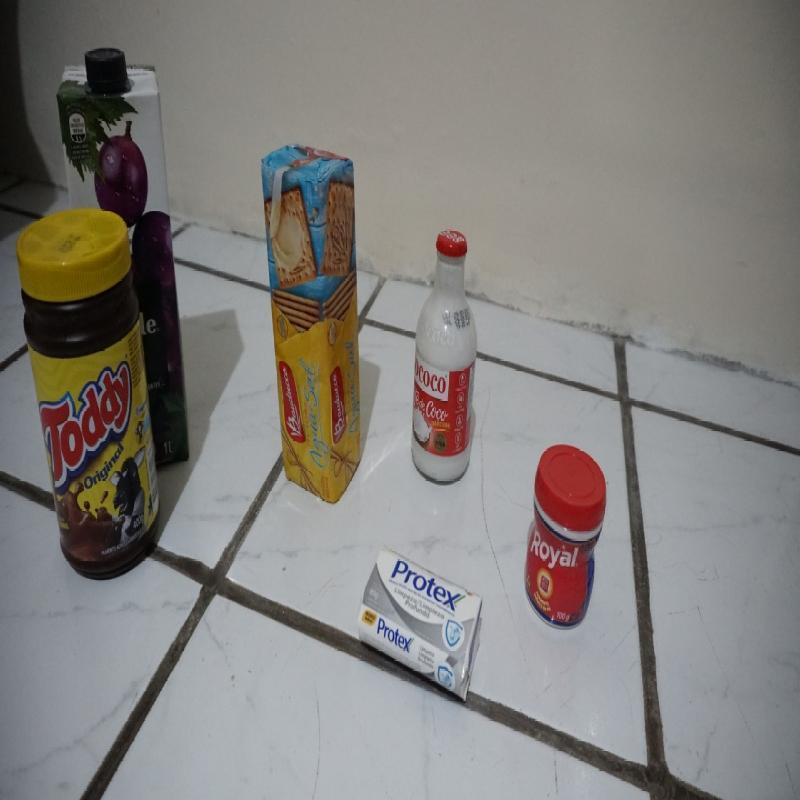Chocolate Powder: (16, 207, 163, 582)
Coconut Milk: (410, 228, 479, 486)
Cracker: (261, 143, 364, 505)
Soap: (357, 546, 483, 706)
Yeast: (523, 442, 608, 630)
